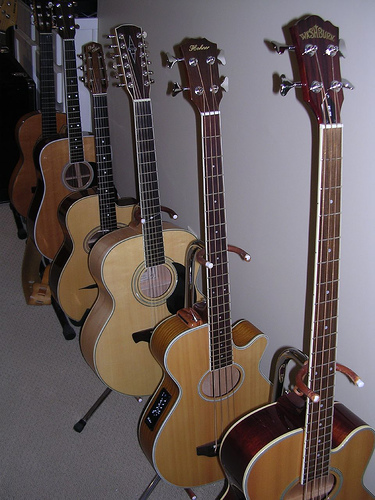guitar: (212, 13, 373, 500), (138, 37, 275, 488), (80, 24, 200, 396), (49, 42, 139, 321), (33, 1, 99, 262), (10, 2, 70, 225)
